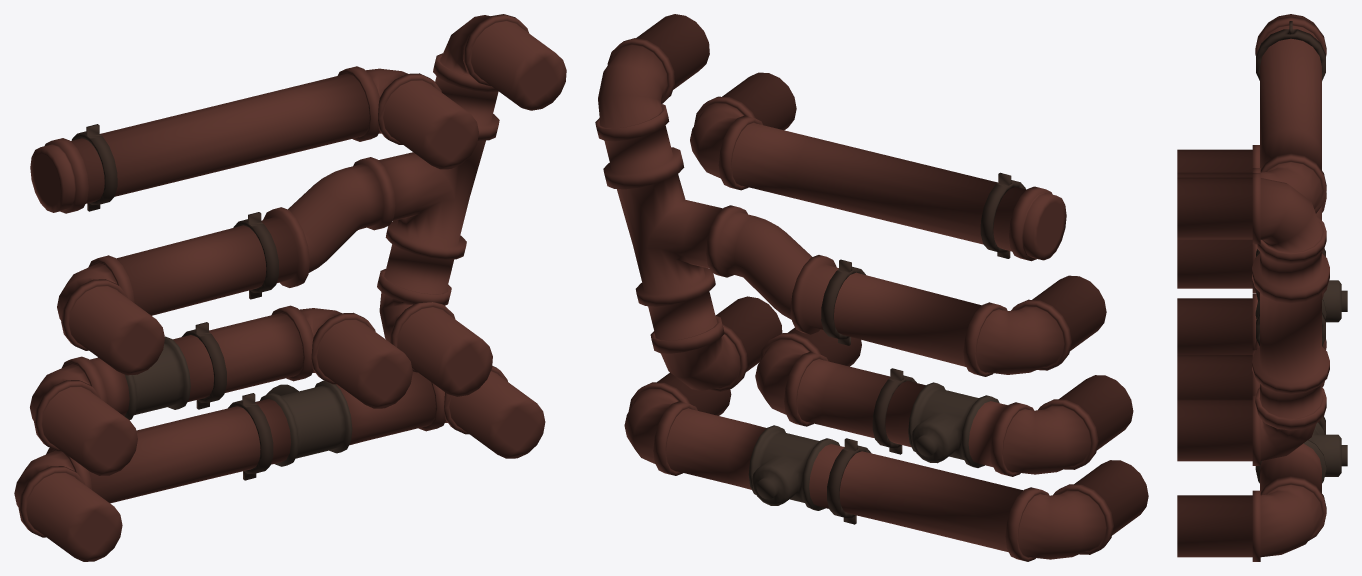
The model's file is big_pipes.fbx.
3 views of the same model, side by side, from view 1: azimuth 30°, elevation 25°; view 2: azimuth 150°, elevation 25°; view 3: azimuth 270°, elevation 25° (orthographic). The views are drawn at different scales.
Parts seen in each view (by area): view 1: big_pipes; view 2: big_pipes; view 3: big_pipes.
Boxes of the visible parts, x1=… form: big_pipes: x1=14, y1=14, x2=566, y2=561; big_pipes: x1=595, y1=14, x2=1148, y2=561; big_pipes: x1=1177, y1=14, x2=1347, y2=561.
Bounding box in the file's own units: 940 × 3093 × 2435.
